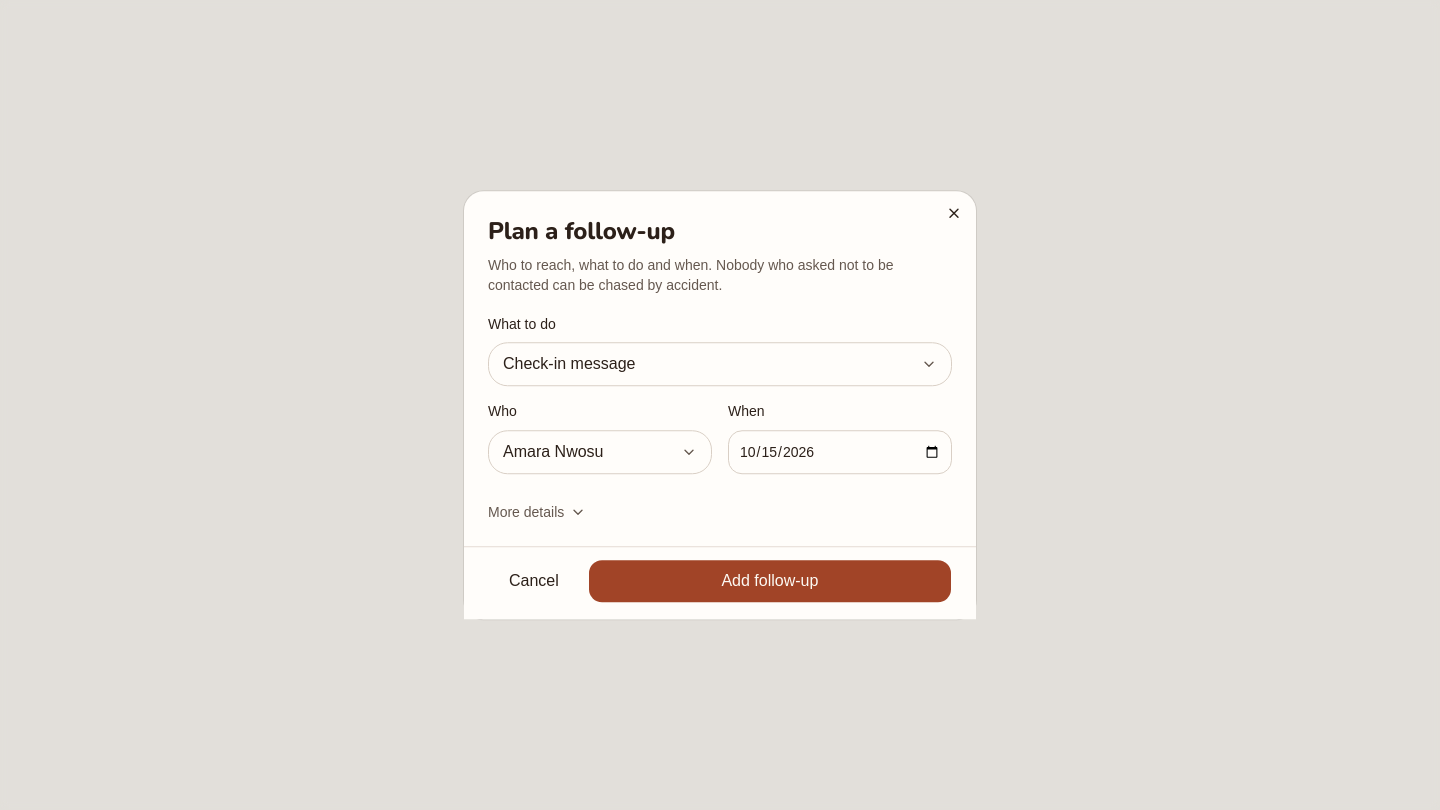
Test case: CreateTaskDialog (audit M5, M7, H1, H2) › refuses a day in the past and offers nothing earlier than today
Type "2026-10-01" into the date field labelled "When". click: (840, 452)
box: x1=728 y1=430 x2=952 y2=474
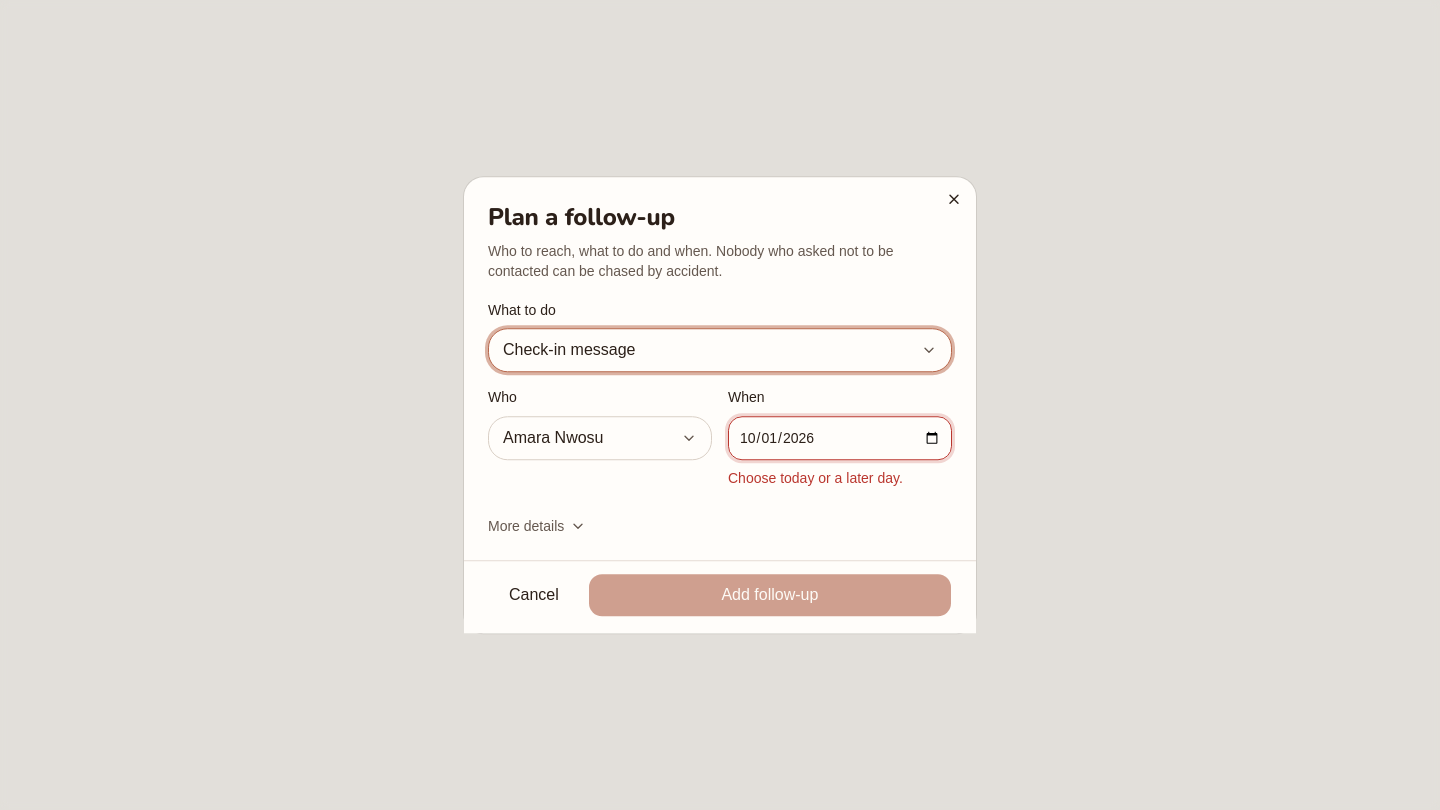
Expected: the button "Add follow-up" is disabled, x1=588 y1=573 x2=952 y2=617
Expected: the text "Choose today or a later day." is shown, x1=728 y1=470 x2=903 y2=486
